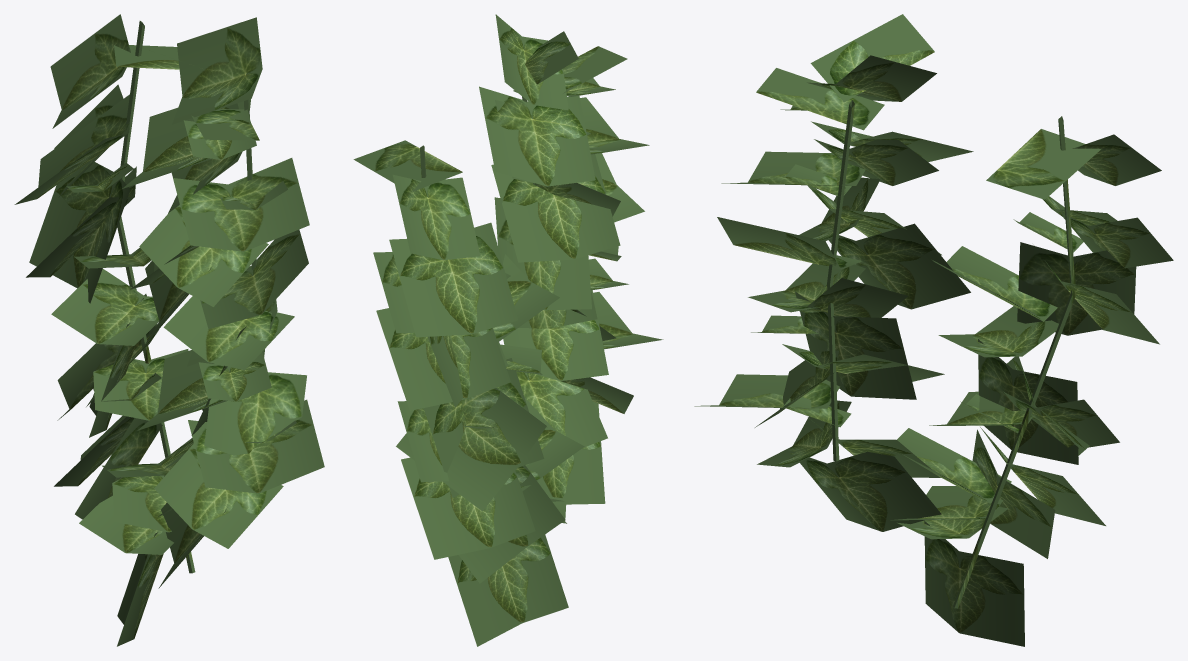
The model's file is Short_Branch.FBX.
3 views of the same model, side by side, from view 1: azimuth 30°, elevation 25°; view 2: azimuth 150°, elevation 25°; view 3: azimuth 270°, elevation 25° (orthographic). The views are drawn at different scales.
Parts seen in each view (by area): view 1: Object200, Object069; view 2: Object069, Object200; view 3: Object200, Object069.
Boxes of the visible parts, x1,y1,x2,y2 form: Object200: [122, 17, 324, 588]; Object069: [14, 14, 195, 646]; Object069: [353, 140, 584, 646]; Object200: [479, 14, 663, 504]; Object200: [694, 14, 973, 531]; Object069: [890, 116, 1173, 646].
Size of the model in its own units: 4.22 by 12.66 by 8.92.
